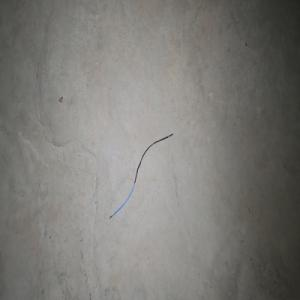Wire: (109, 133, 173, 219)
